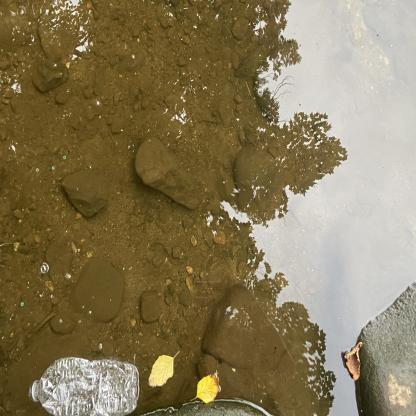trash: (26, 353, 144, 416)
